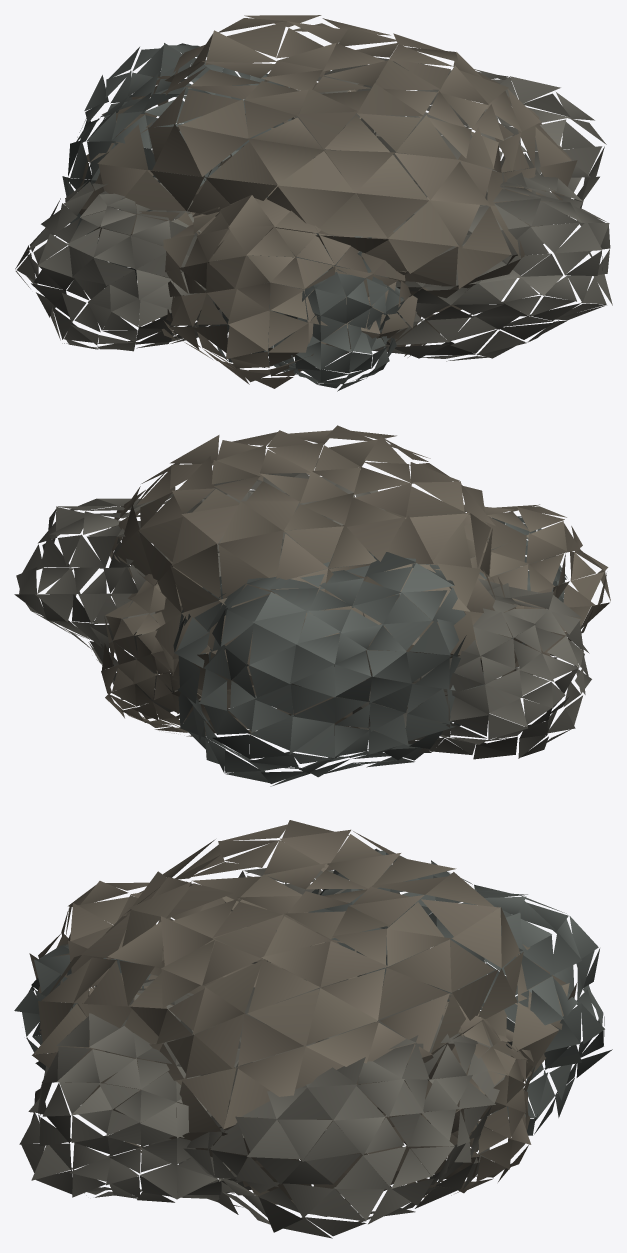
The model's file is mature-lod0.glb.
The picture shows the model from 3 angles, top to bottom: view 1: azimuth 30°, elevation 25°; view 2: azimuth 150°, elevation 25°; view 3: azimuth 270°, elevation 25°; orthographic projection. The views are drawn at different scales.
Visible parts, largest first — view 1: weathered-fieldstone; view 2: weathered-fieldstone; view 3: weathered-fieldstone.
Part boxes in pixels (<box>): weathered-fieldstone: <box>15,15,612,391</box>; weathered-fieldstone: <box>14,425,610,786</box>; weathered-fieldstone: <box>14,820,612,1238</box>.
Bounding box in the file's own units: 4.72 × 2.06 × 4.03.
